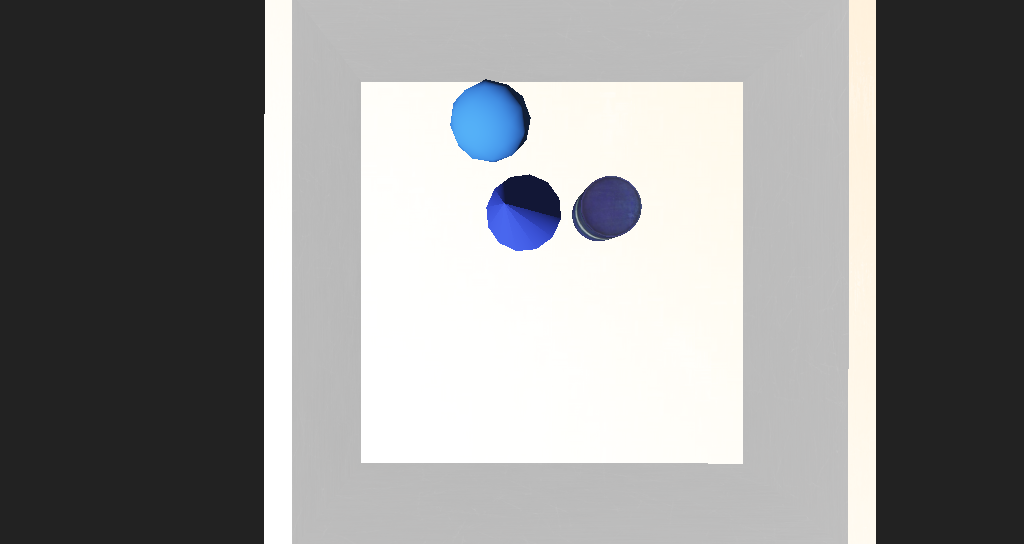cone: (519, 217, 573, 251)
cylinder: (424, 200, 519, 258)
sphere: (428, 165, 488, 208)
